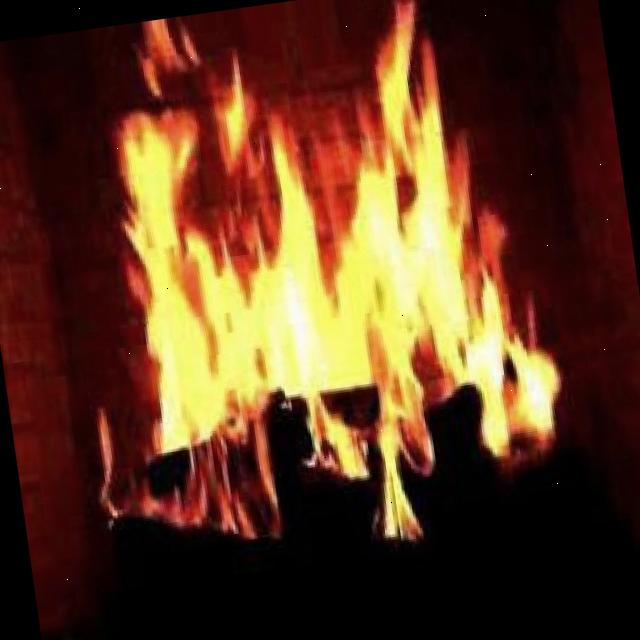fire: (83, 35, 558, 508)
